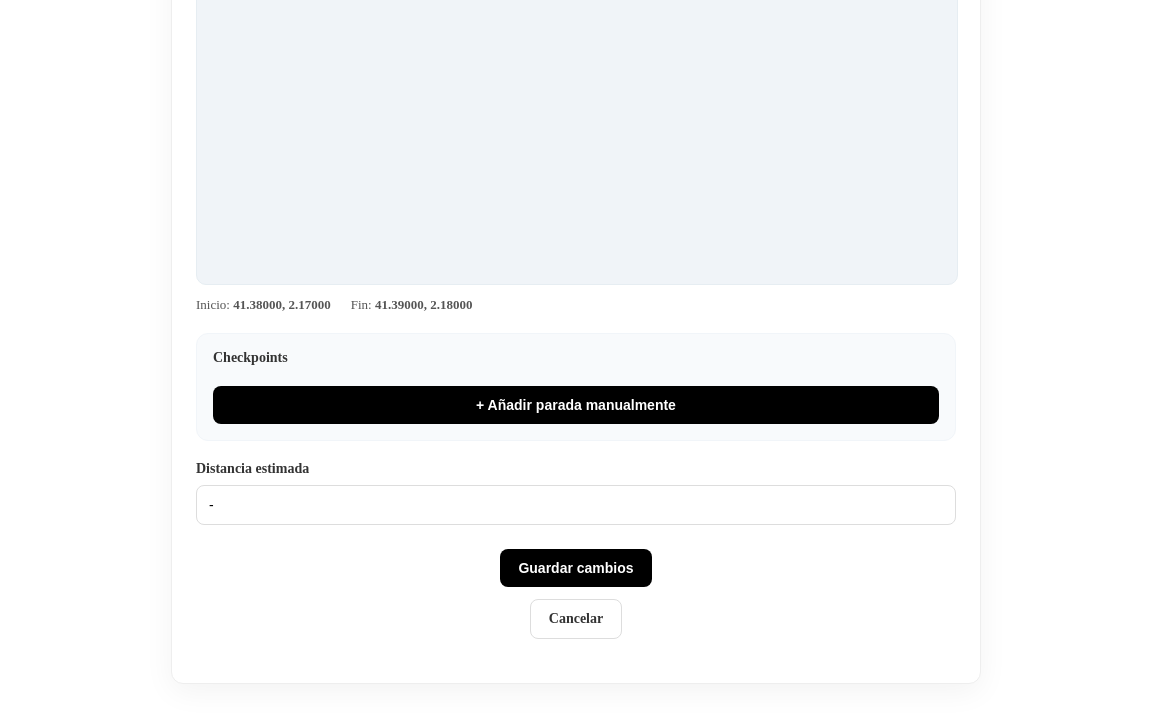
Test: RoutesEdit.vue — Edición de rutas (criterios de aceptación) › Validación - paradas requieren nombre
(page scrolled)
Añadir parada sin nombre (botón "Añadir parada manualmente")
Click the button with class "dashed" at (576, 405), box [213, 386, 939, 424]
(page scrolled)
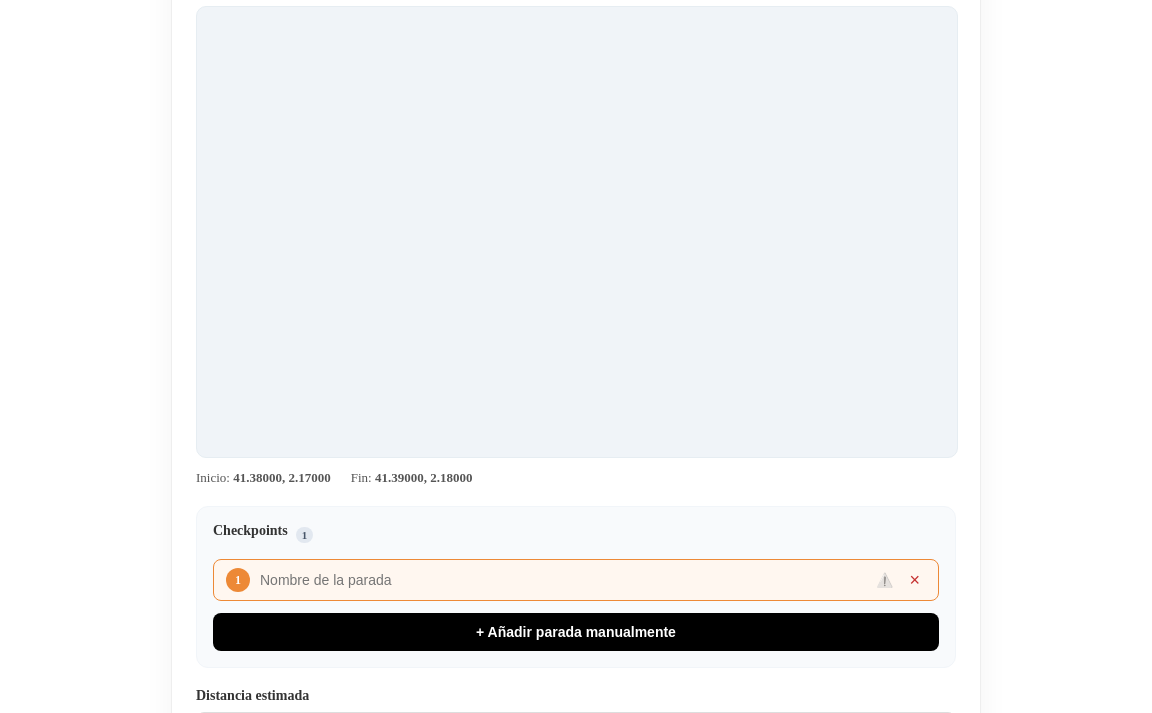
Submit debe fallar por nombre vacío
Submit the form
(page scrolled)
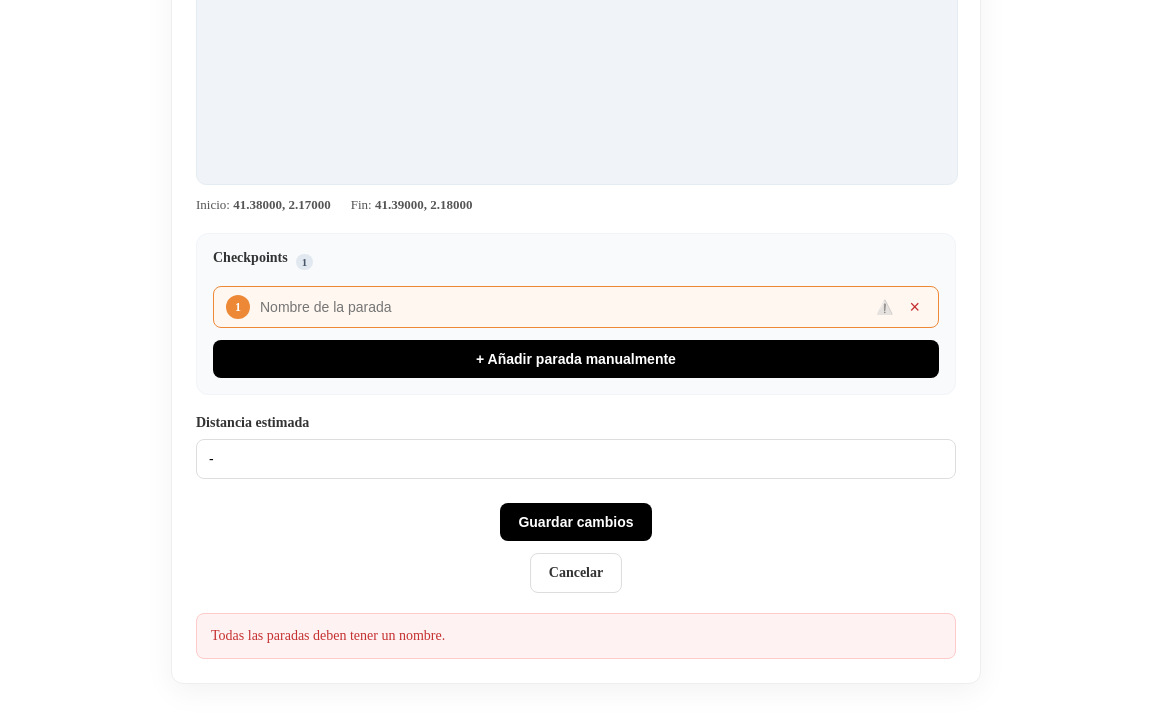
Now the text "Todas las paradas deben tener un nombre." is shown, box [196, 613, 956, 659]
